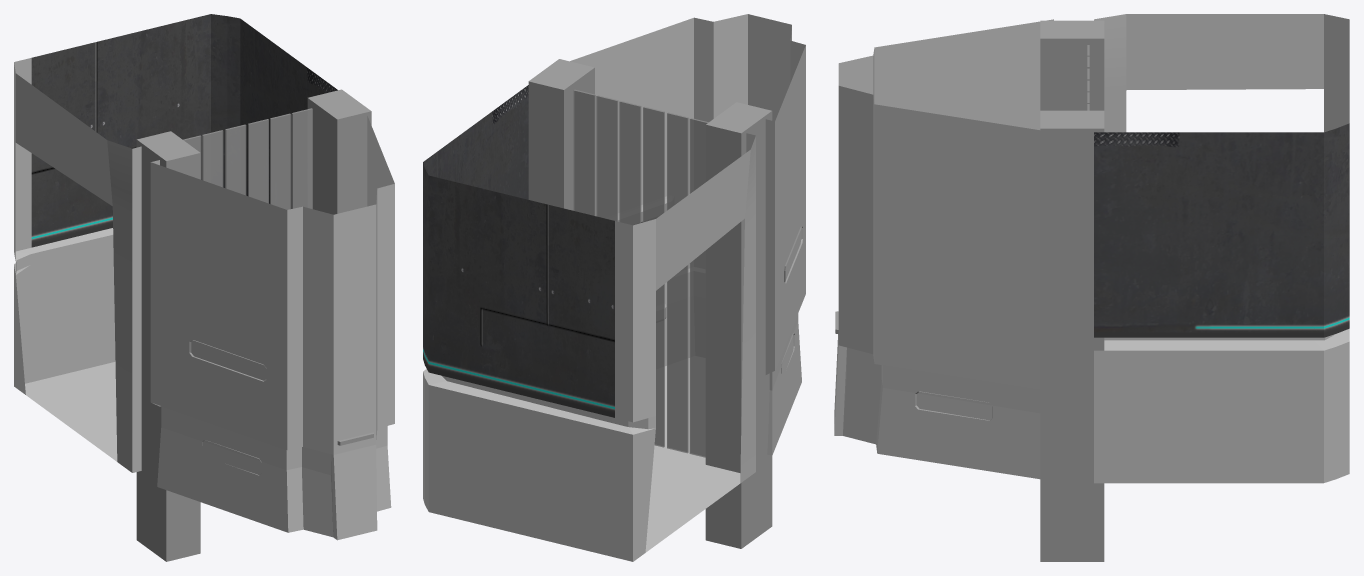
Rendered from Toilet.fbx.
The picture shows the model from 3 angles, left to right: view 1: azimuth 30°, elevation 25°; view 2: azimuth 150°, elevation 25°; view 3: azimuth 270°, elevation 25°; orthographic projection. The views are drawn at different scales.
Parts seen in each view (by area): view 1: polySurface19, pCube238, pCube239, pCube240, pCube241, pCube242, pCube243, pCube244; view 2: polySurface19, pCube238, pCube239, pCube244, pCube245, pCube243, pCube240, pCube241, pCube242; view 3: polySurface19, pCube239, pCube238.
Boxes of the visible parts, x1,y1,x2,y2 form: polySurface19: (14, 14, 394, 540); pCube238: (136, 131, 200, 561); pCube239: (307, 89, 371, 214); pCube240: (291, 108, 312, 208); pCube241: (270, 113, 291, 209); pCube242: (248, 119, 268, 203); pCube243: (225, 124, 246, 195); pCube244: (202, 130, 223, 187); polySurface19: (423, 14, 805, 561); pCube238: (705, 102, 772, 548); pCube239: (528, 59, 594, 210); pCube244: (667, 112, 688, 453); pCube245: (689, 118, 708, 457); pCube243: (643, 106, 664, 447); pCube240: (573, 89, 595, 215); pCube241: (596, 95, 618, 221); pCube242: (619, 100, 641, 225); polySurface19: (834, 14, 1349, 483); pCube239: (1040, 110, 1104, 561); pCube238: (1040, 20, 1104, 110).
Size of the model in its own units: 2.79 by 4.76 by 5.13.
